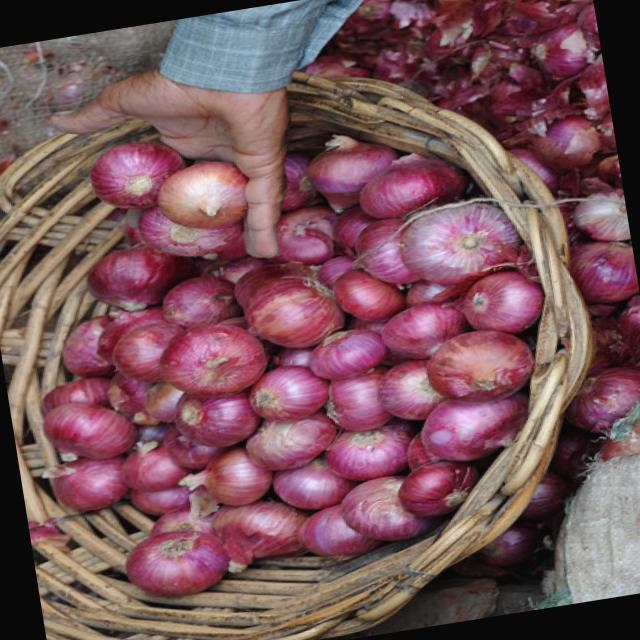onion: (396, 197, 514, 294), (166, 311, 274, 405), (420, 318, 532, 408), (412, 386, 526, 471), (116, 522, 230, 606), (234, 271, 340, 361), (93, 128, 193, 214), (82, 240, 181, 322), (158, 153, 256, 234), (31, 393, 136, 466), (452, 266, 556, 338), (35, 452, 128, 522), (243, 357, 327, 430), (320, 424, 409, 488), (189, 446, 268, 514), (303, 318, 386, 382), (288, 501, 370, 562), (322, 367, 390, 433)
